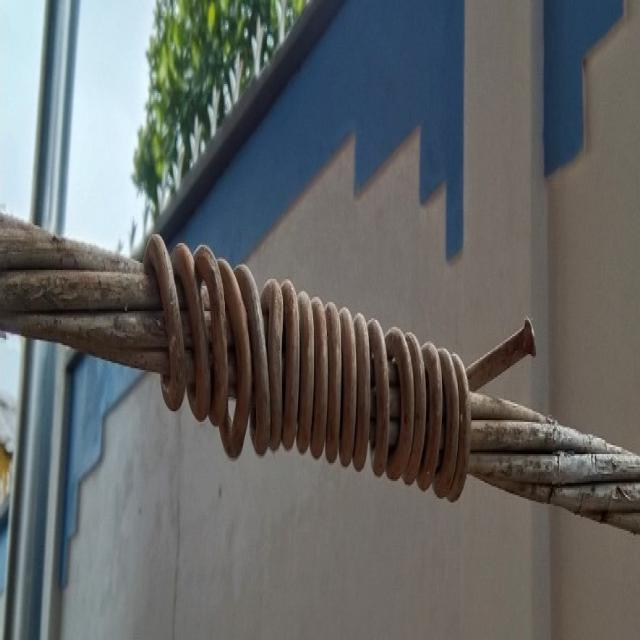wire: (123, 207, 544, 551)
